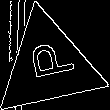P_W: (21, 42, 76, 88)
